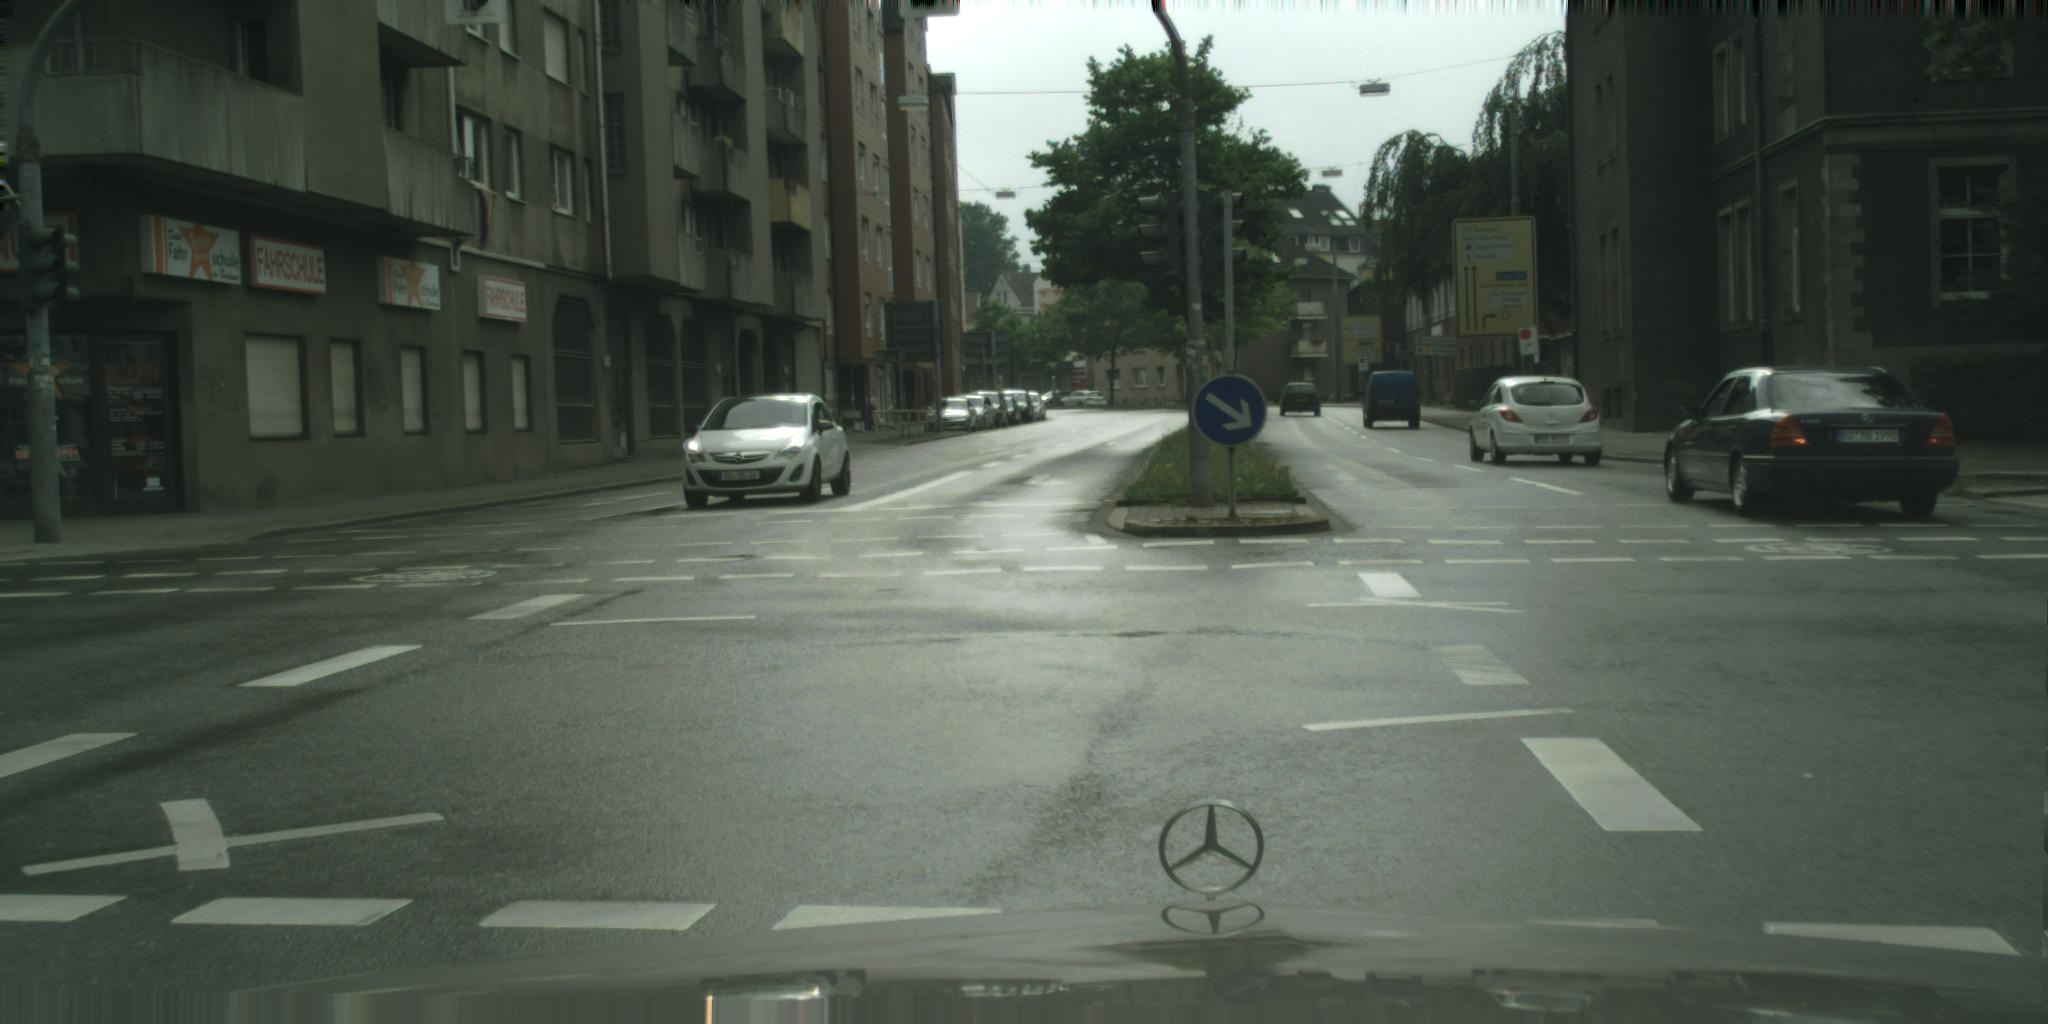car: (1663, 364, 1960, 521), (680, 392, 853, 512), (1469, 375, 1604, 468), (1356, 371, 1422, 432), (925, 396, 980, 434), (950, 394, 999, 432), (967, 391, 1011, 430), (1277, 381, 1323, 418), (997, 388, 1036, 426), (1020, 391, 1049, 424), (1059, 391, 1109, 409), (997, 396, 1024, 428), (1034, 391, 1072, 409)
